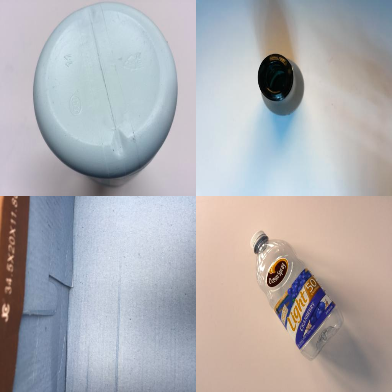cardboard: (1, 195, 196, 392)
glass: (257, 54, 304, 117)
plastic: (32, 3, 179, 187), (248, 230, 345, 362)
